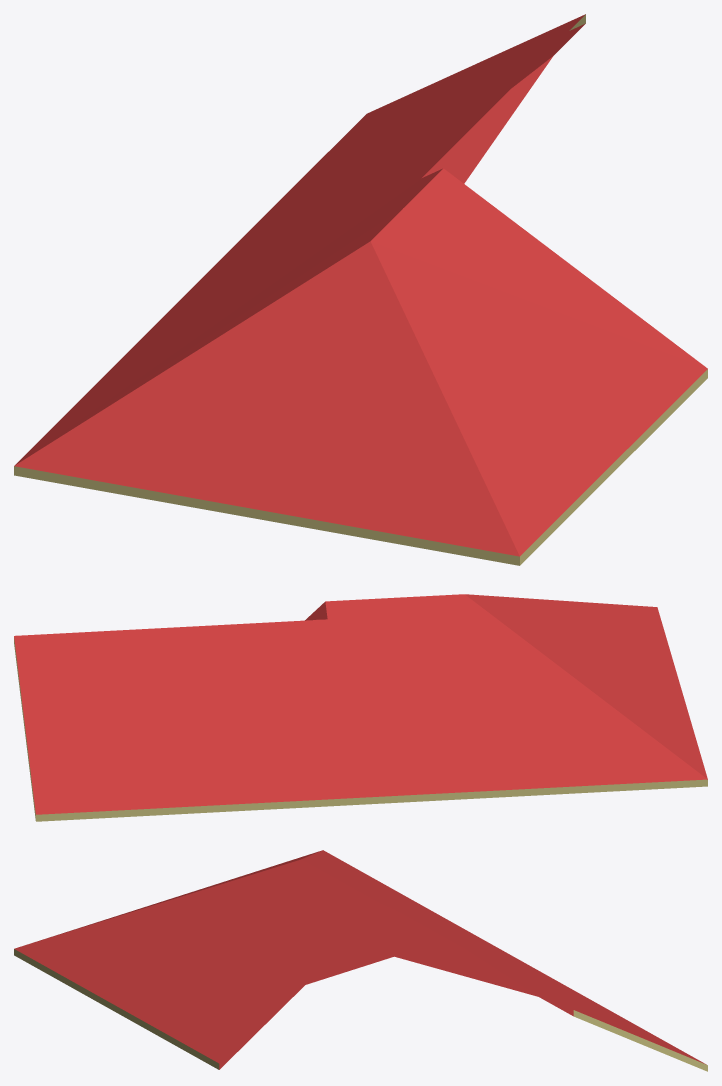
The picture shows the model from 3 angles, top to bottom: view 1: azimuth 30°, elevation 25°; view 2: azimuth 150°, elevation 25°; view 3: azimuth 270°, elevation 25°; orthographic projection. The views are drawn at different scales.
Size of the model in its own units: 8.41 by 9.56 by 1.74.
